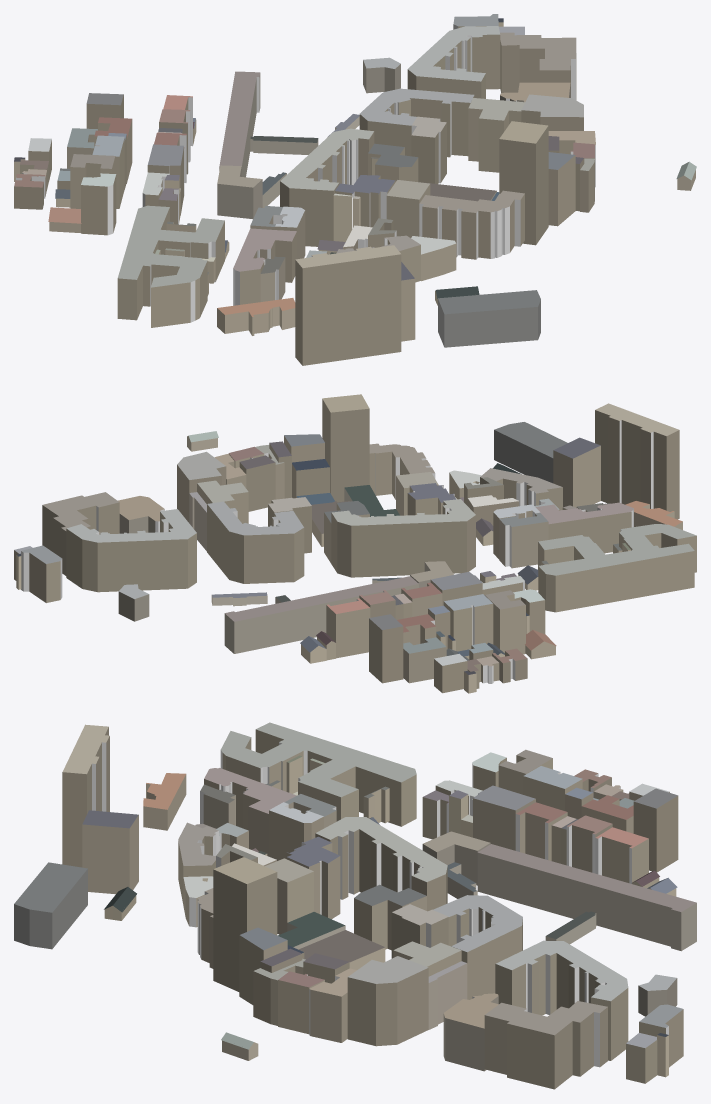
3 views of the same model, one above another, from view 1: azimuth 30°, elevation 25°; view 2: azimuth 150°, elevation 25°; view 3: azimuth 270°, elevation 25° (orthographic). The views are drawn at different scales.
Parts seen in each view (by area): view 1: tuile; view 2: tuile; view 3: tuile.
Boxes of the visible parts, bbox=[...] form: tuile: bbox=[14, 14, 696, 365]; tuile: bbox=[14, 394, 696, 693]; tuile: bbox=[14, 722, 696, 1089].
Size of the model in its own units: 286 by 50.33 by 262.
